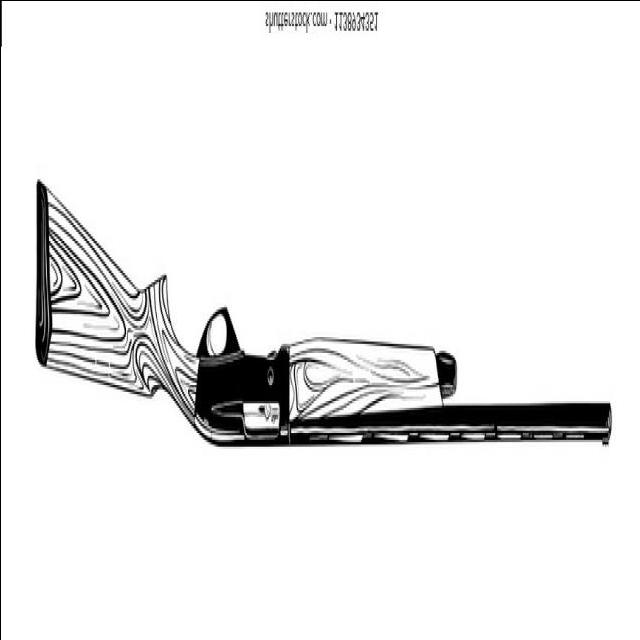shotgun: (22, 162, 638, 472)
